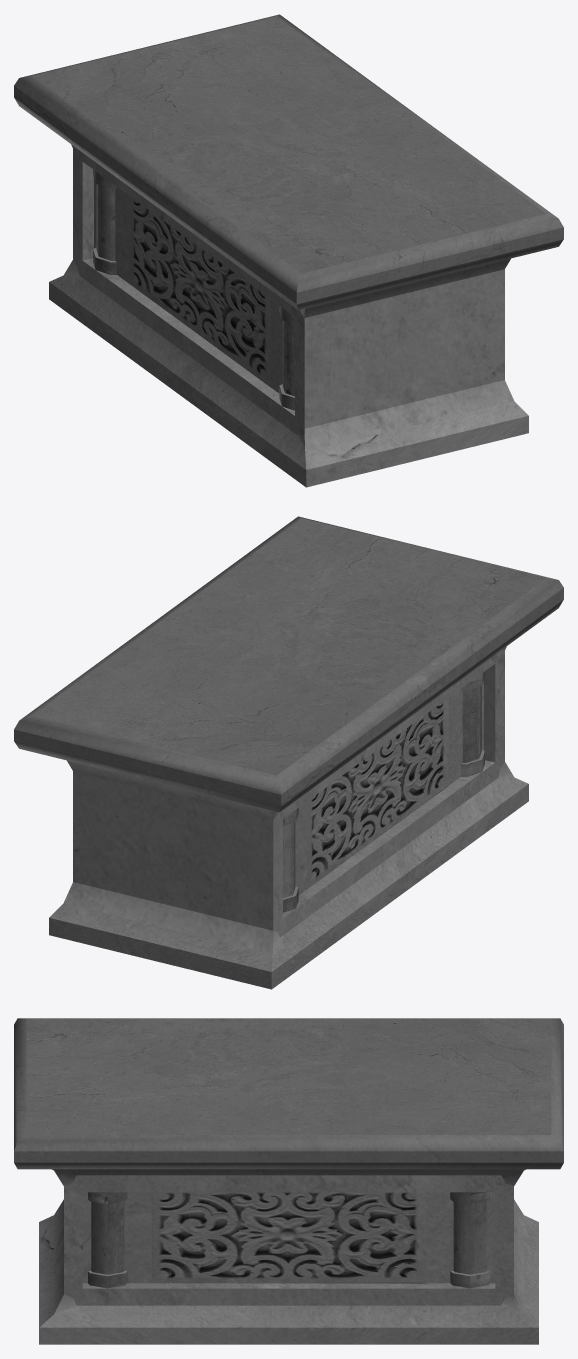
File: Altar.fbx
The picture shows the model from 3 angles, top to bottom: view 1: azimuth 30°, elevation 25°; view 2: azimuth 150°, elevation 25°; view 3: azimuth 270°, elevation 25°; orthographic projection. The views are drawn at different scales.
Visible parts, largest first — view 1: Altar; view 2: Altar; view 3: Altar.
Boxes of the visible parts, x1,y1,x2,y2 form: Altar: (14, 14, 563, 487); Altar: (14, 516, 563, 989); Altar: (14, 1018, 563, 1344).
Bounding box in the file's own units: 2.2 × 1.2 × 0.95.
